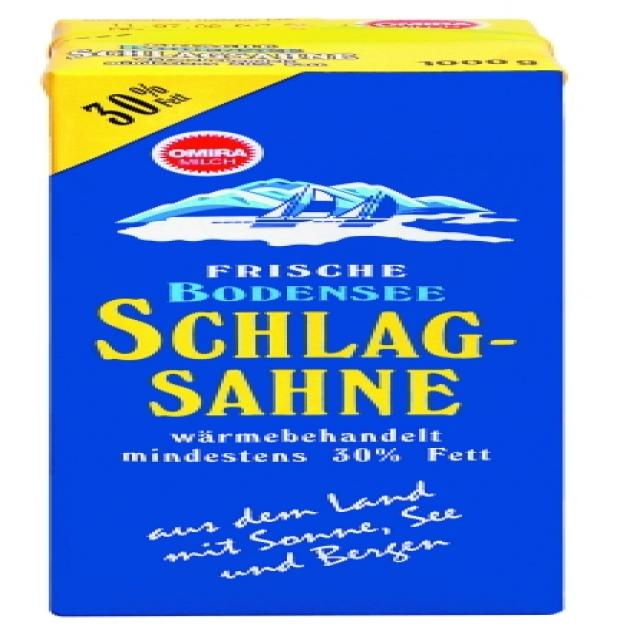cream: (46, 19, 563, 617)
